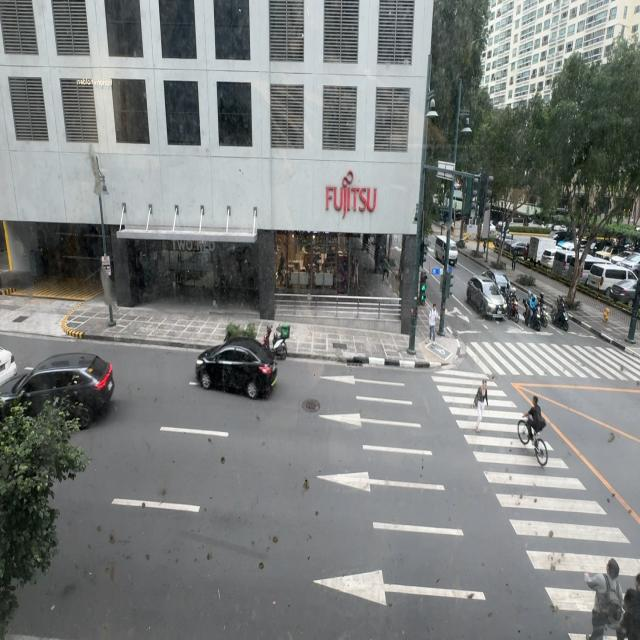crossing: (583, 556, 623, 636), (474, 379, 490, 434)
pedestrain: (429, 303, 438, 345), (512, 245, 518, 270), (525, 242, 530, 260)
